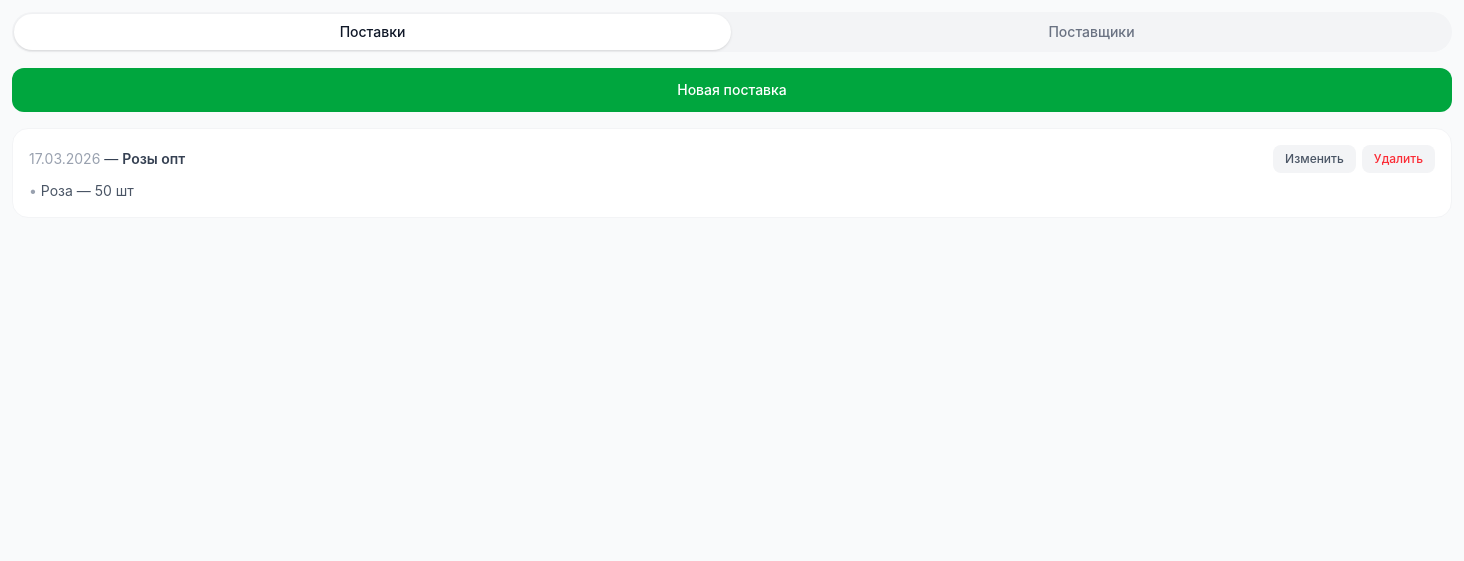
Scenario: DeliveryPage › скрывает форму и обновляет список после сохранения
The image size is (1464, 561).
Click the button "Новая поставка" at (732, 90), box 12,68 -> 1452,112
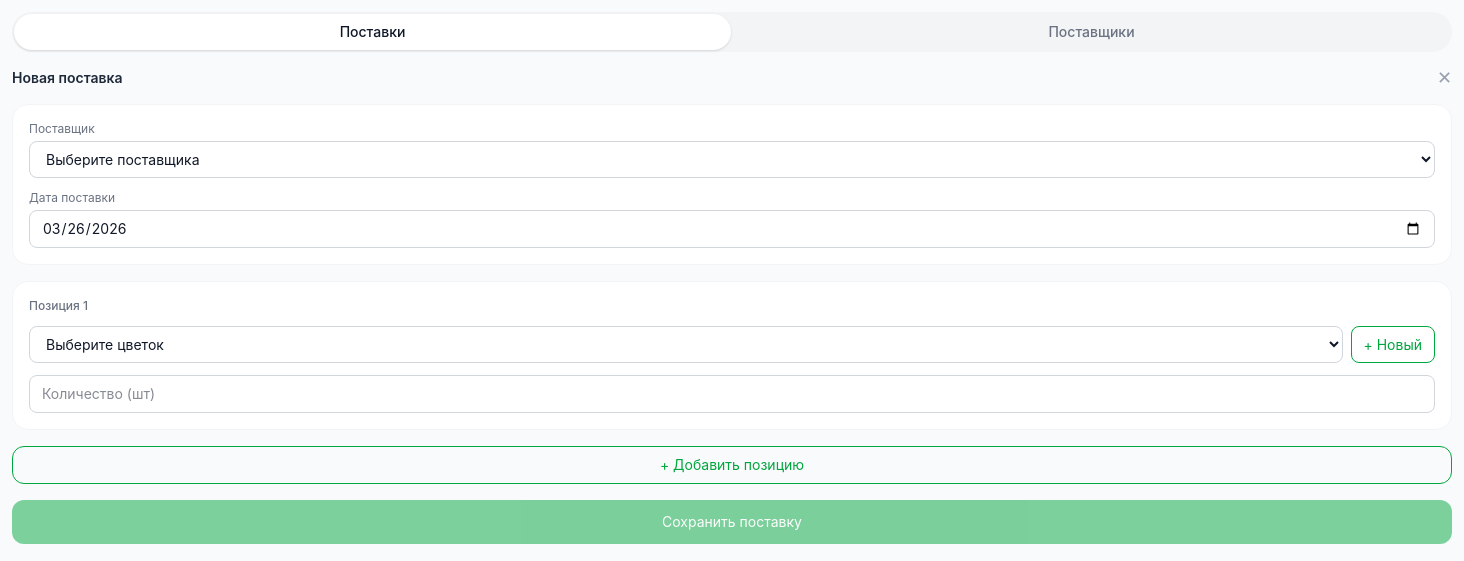
Select "Розы опт" in the 1st dropdown at (732, 160), box 29,141 -> 1435,178
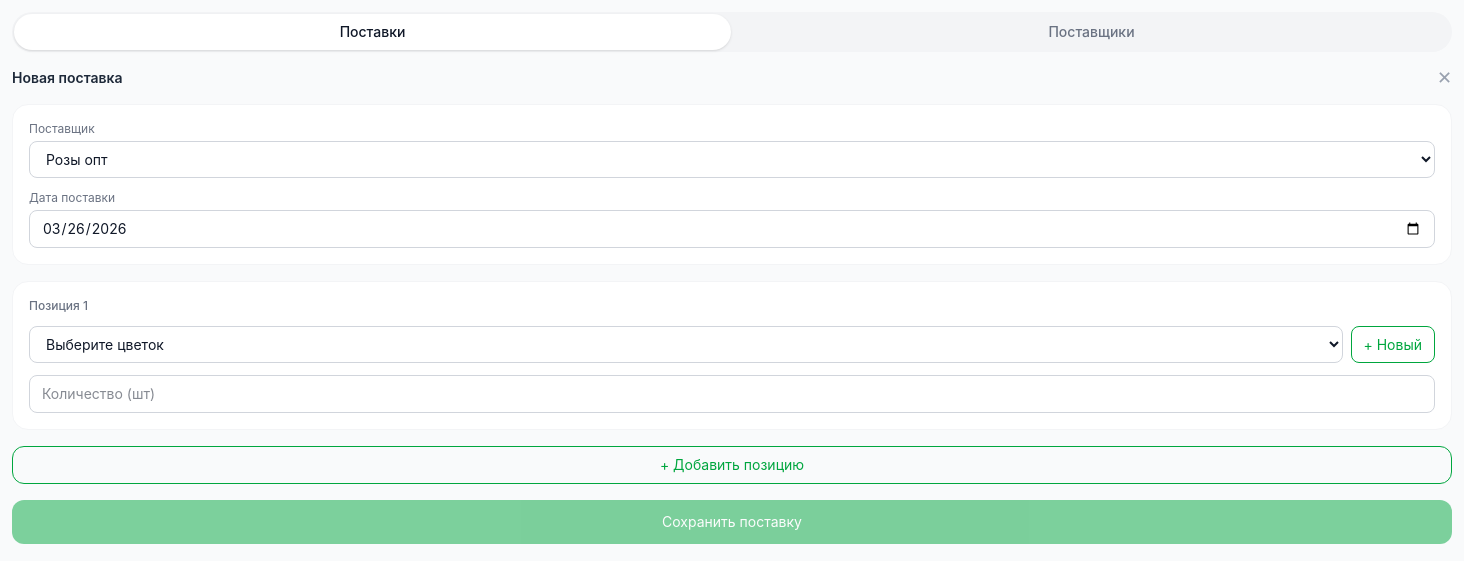
Select "Роза" in the dropdown below "Позиция" at (686, 344), box 29,326 -> 1342,363
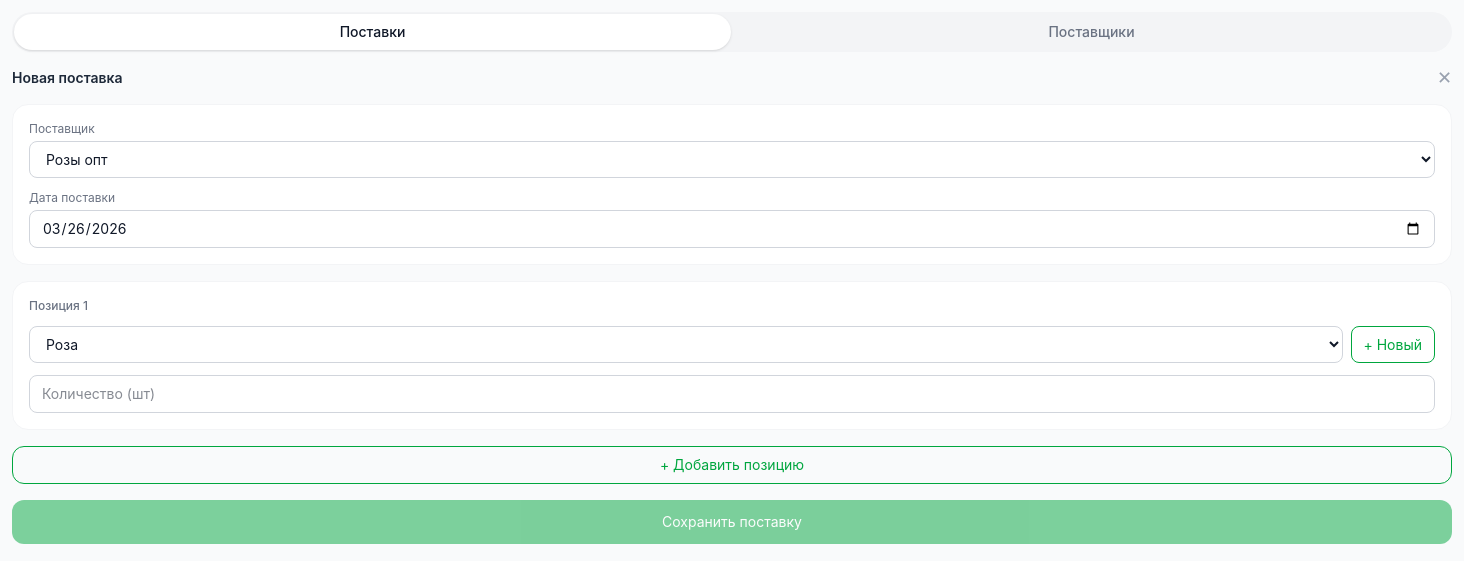
Type "50" into the number field with placeholder "Количество (шт)" at (732, 394), box 29,375 -> 1435,413
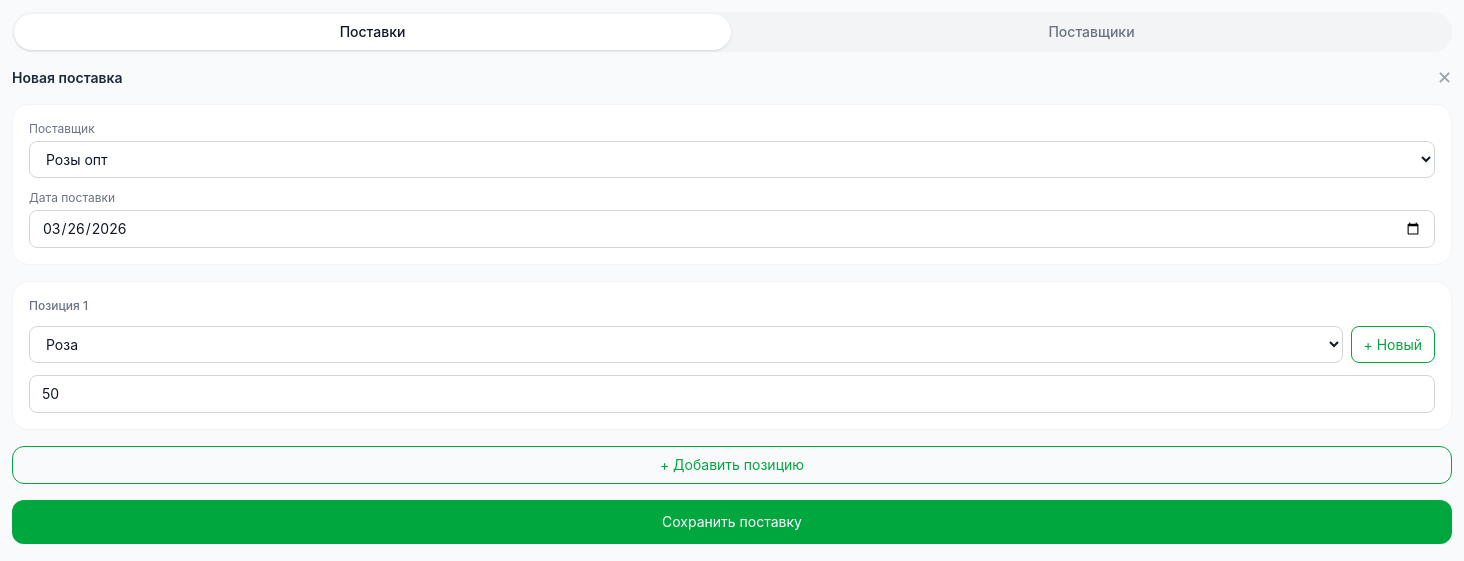
Click the button "Сохранить поставку" at (732, 522), box 12,500 -> 1452,544
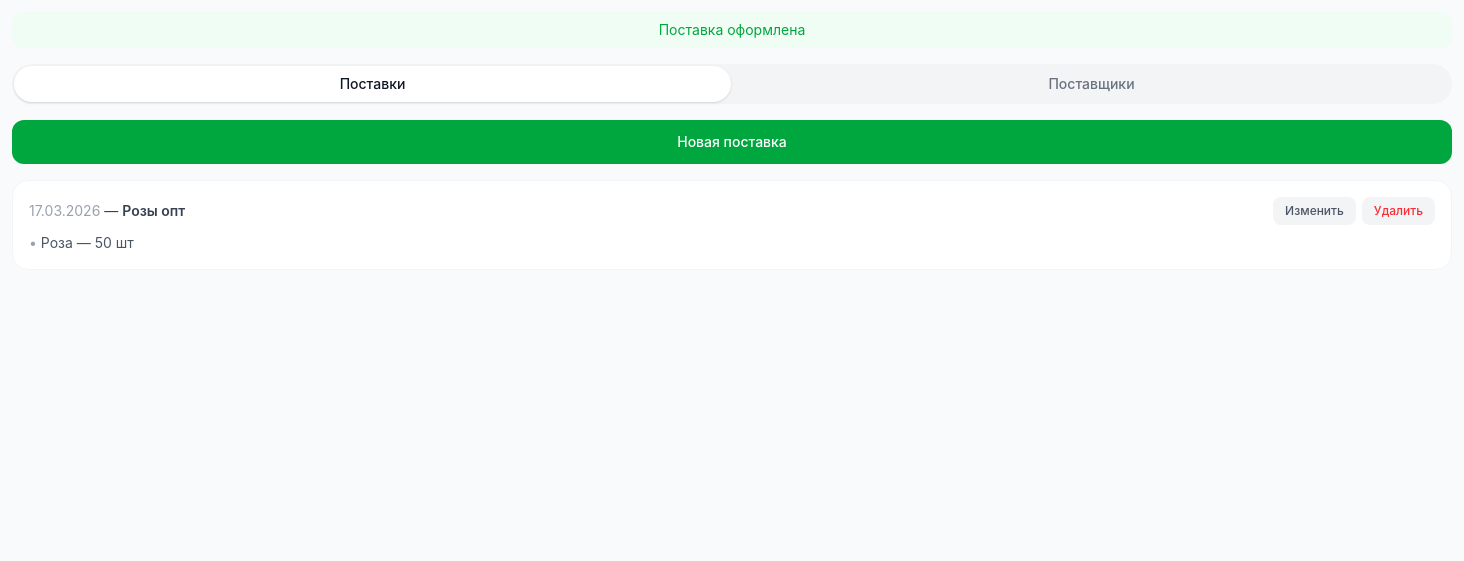
Check: the text "Дата поставки" is gone
Check: the text "Поставка оформлена" is shown, box 12,12 -> 1452,48
